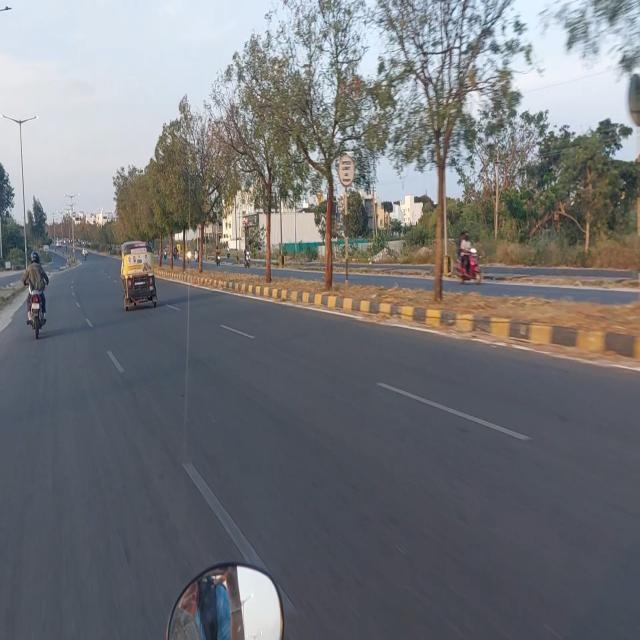bien_nguy_hiem: (338, 152, 355, 187)
